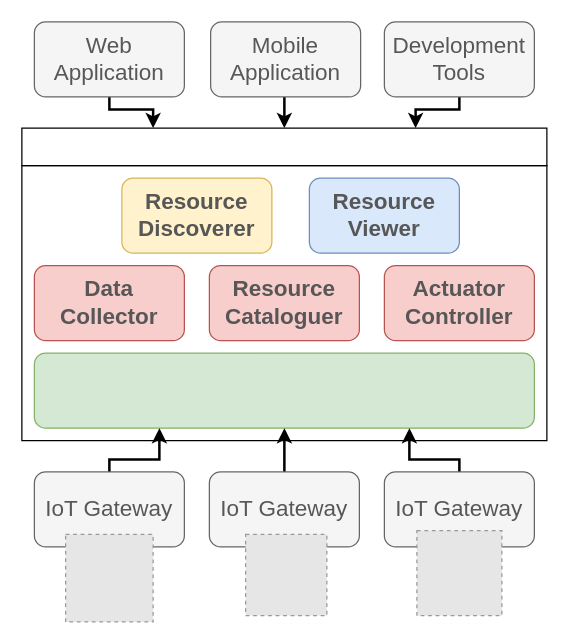
Image size: 569x644. Some labels were removed from this diagram. Grey dashed boxes stand in for pictures. The shapes that lost their labels are listed below. From the top down, each one's centre as x and y in pixels, then its label:
At point (284, 146): "InterSCity Platform".
At point (283, 390): "Resource Adaptor".
